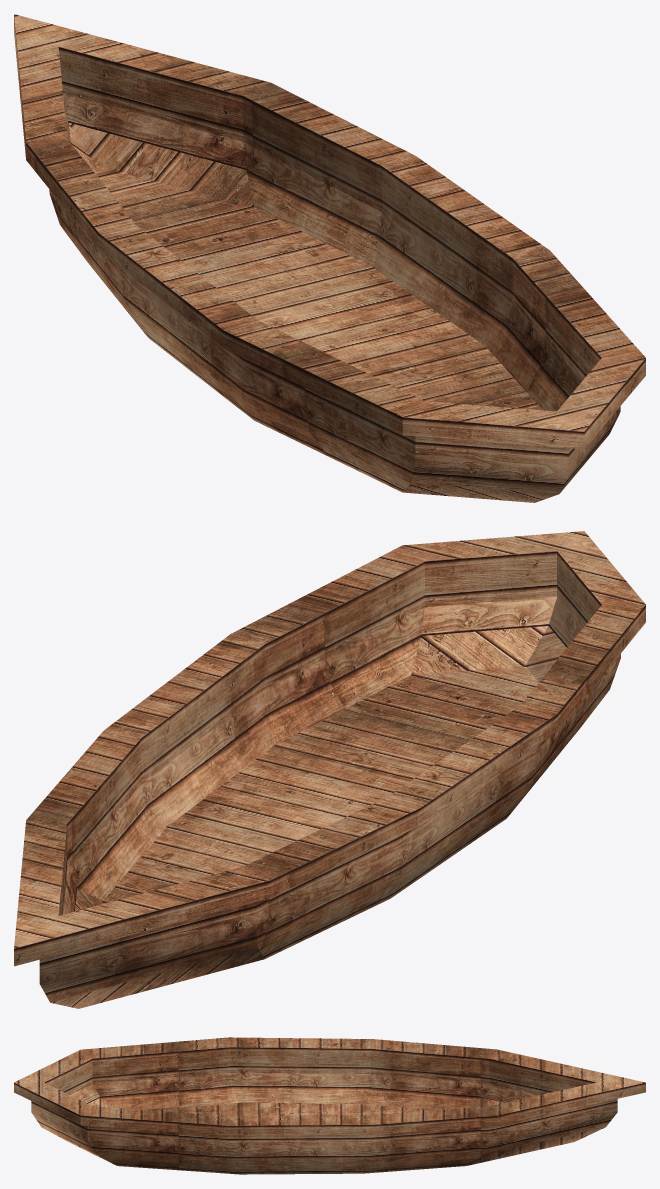
Rendered from BoteProyecto.fbx.
The picture shows the model from 3 angles, top to bottom: view 1: azimuth 30°, elevation 25°; view 2: azimuth 150°, elevation 25°; view 3: azimuth 270°, elevation 25°; orthographic projection. The views are drawn at different scales.
Parts seen in each view (by area): view 1: Bote; view 2: Bote; view 3: Bote.
Part boxes in pixels (left/top/right/bottom): Bote: left=14, top=14, right=645, bottom=502; Bote: left=14, top=531, right=645, bottom=1008; Bote: left=14, top=1037, right=645, bottom=1174.
Bounding box in the file's own units: 63.57 × 20 × 192.
